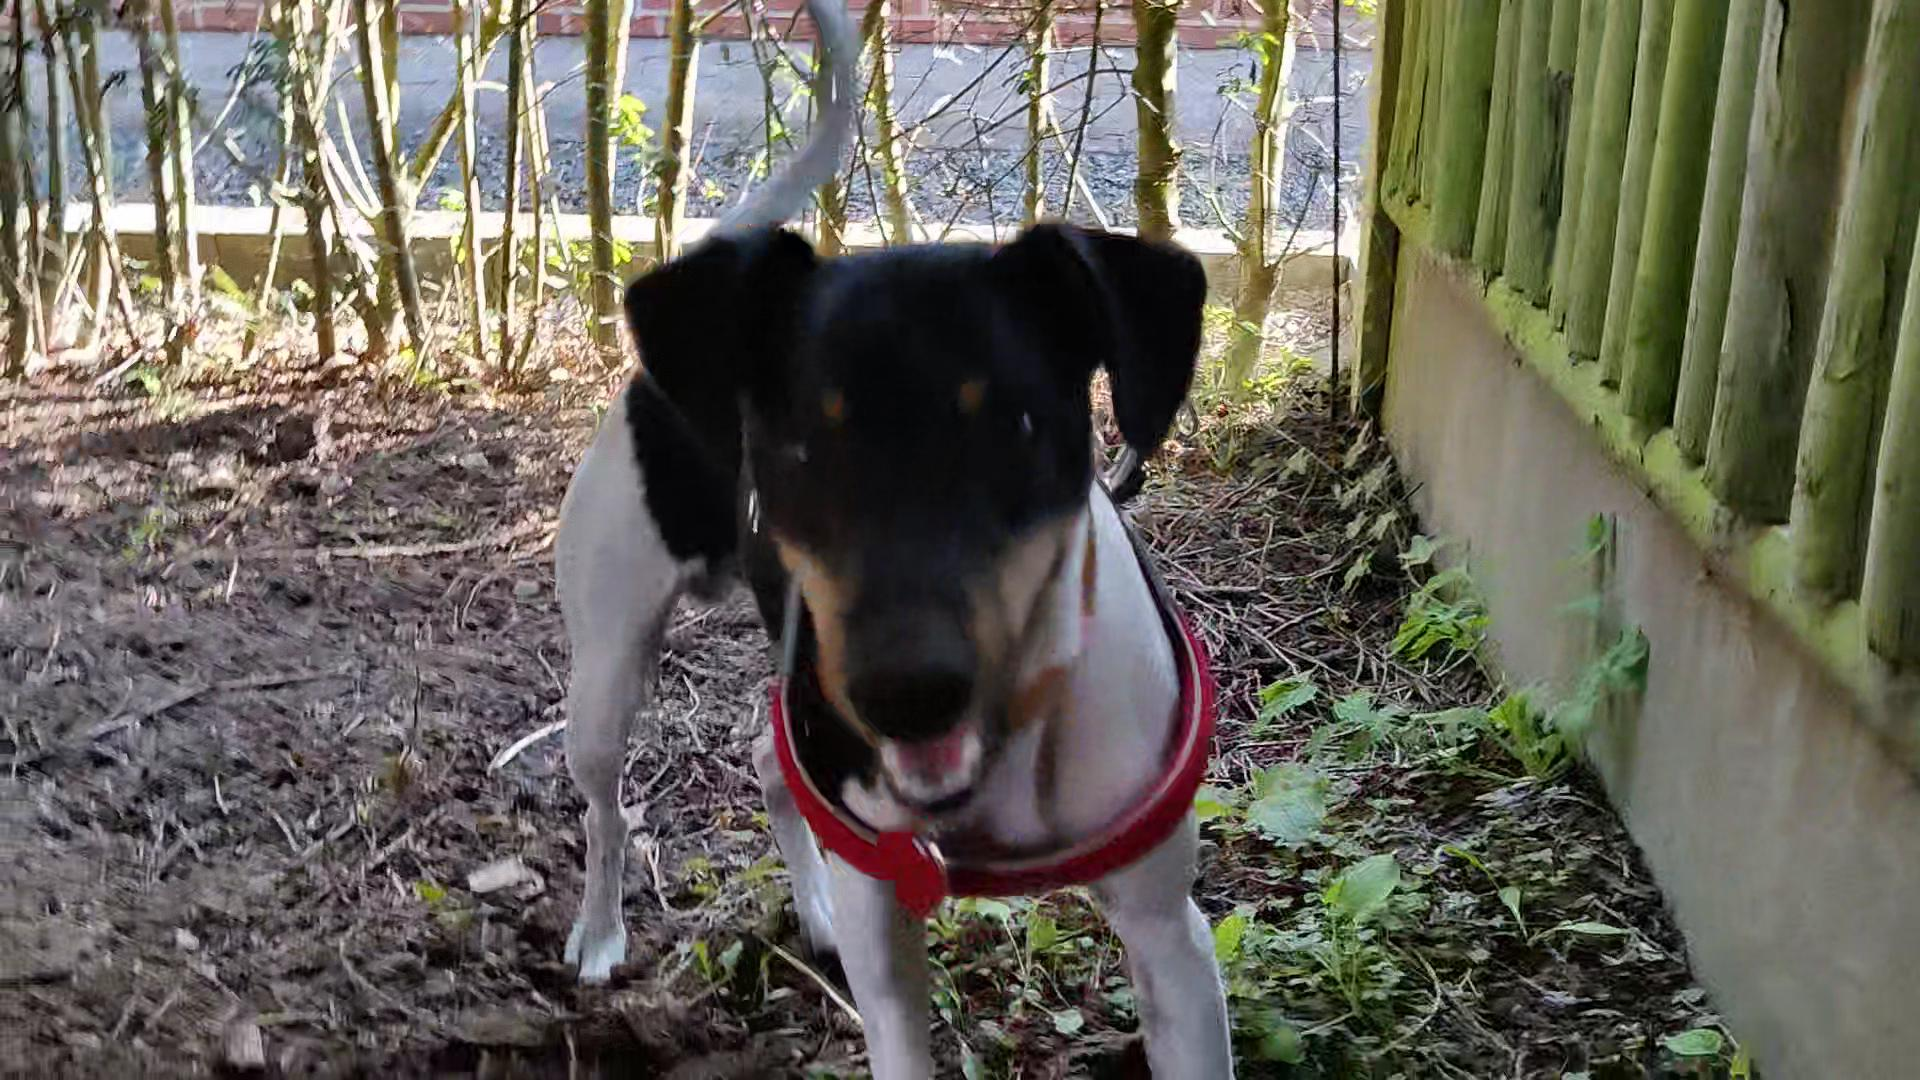Dog: (521, 0, 1279, 1079)
